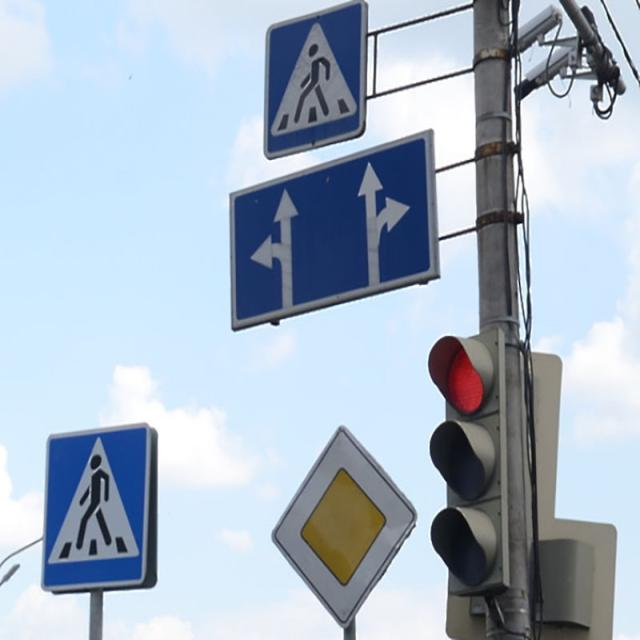Traffic sign: (222, 127, 438, 333), (270, 419, 417, 626), (42, 419, 160, 594), (251, 0, 373, 160)
